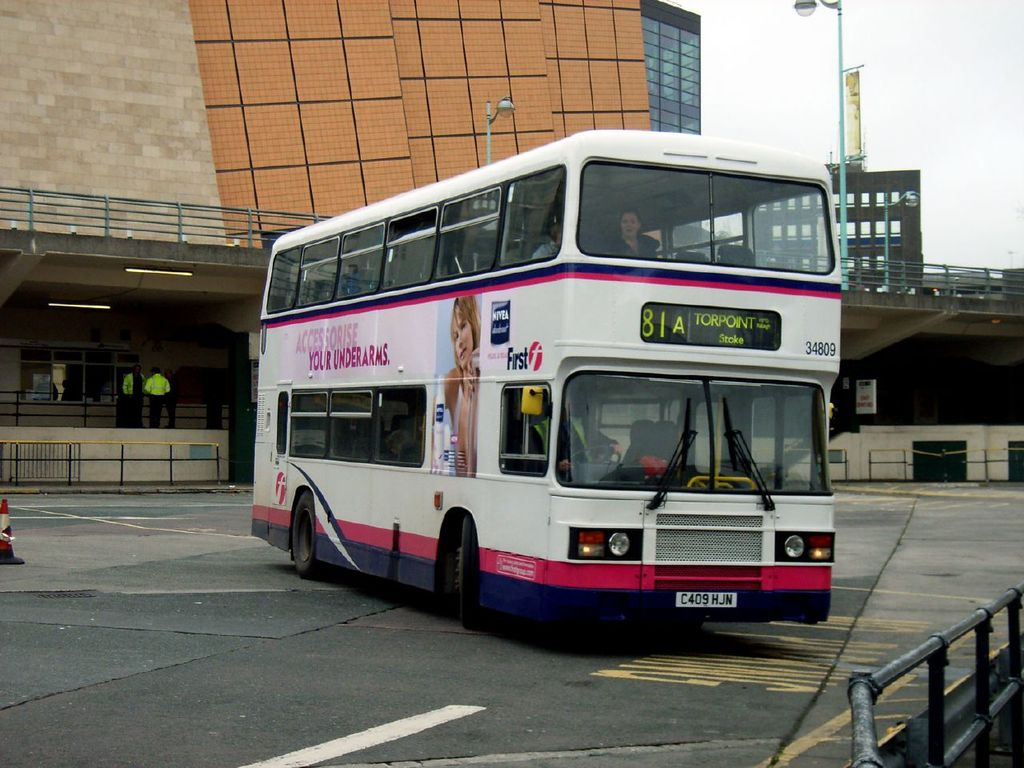Bus: (252, 135, 840, 628)
